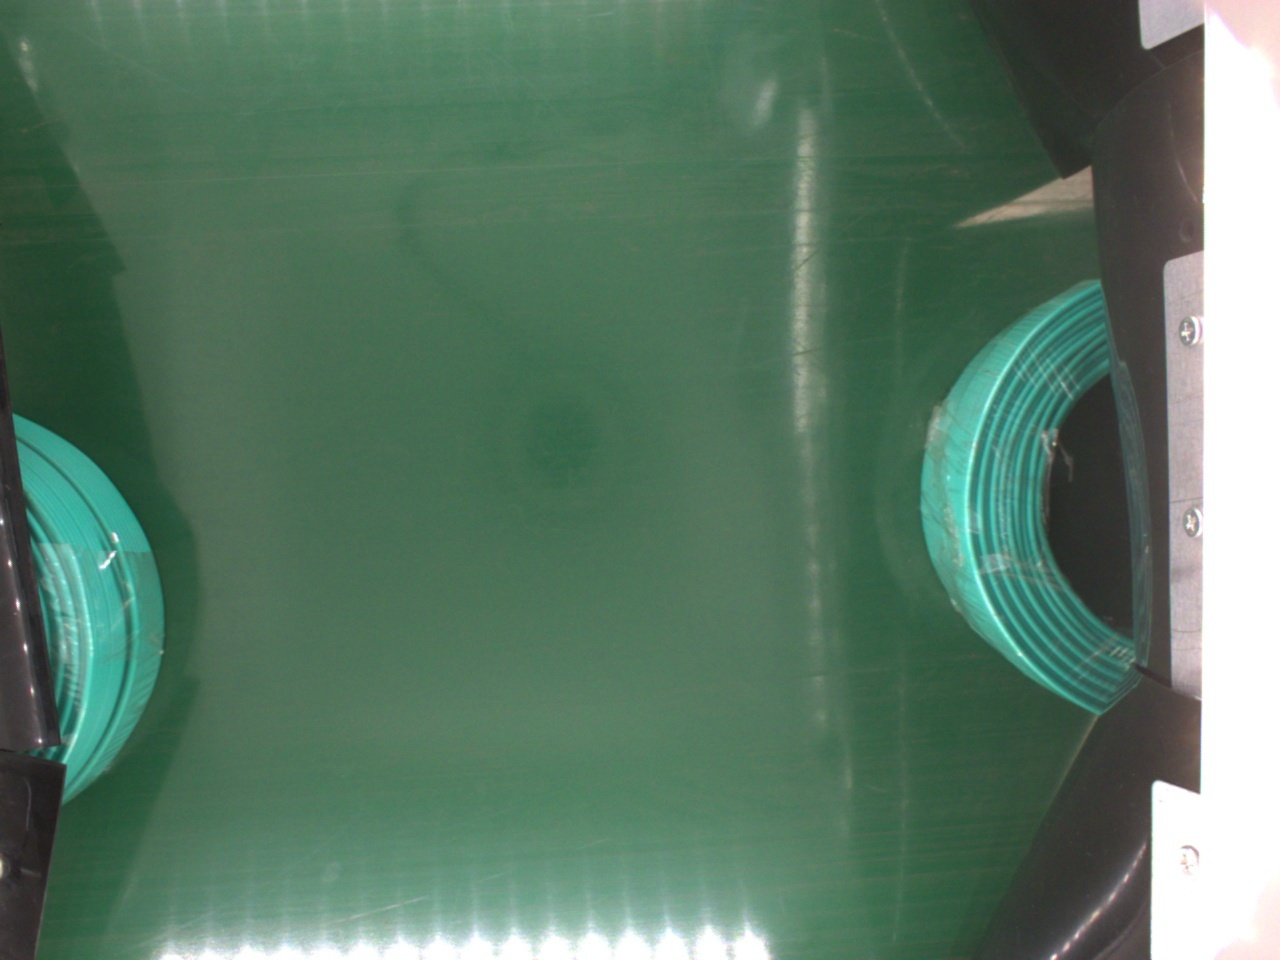green: (924, 276, 1149, 722), (10, 410, 171, 802)
